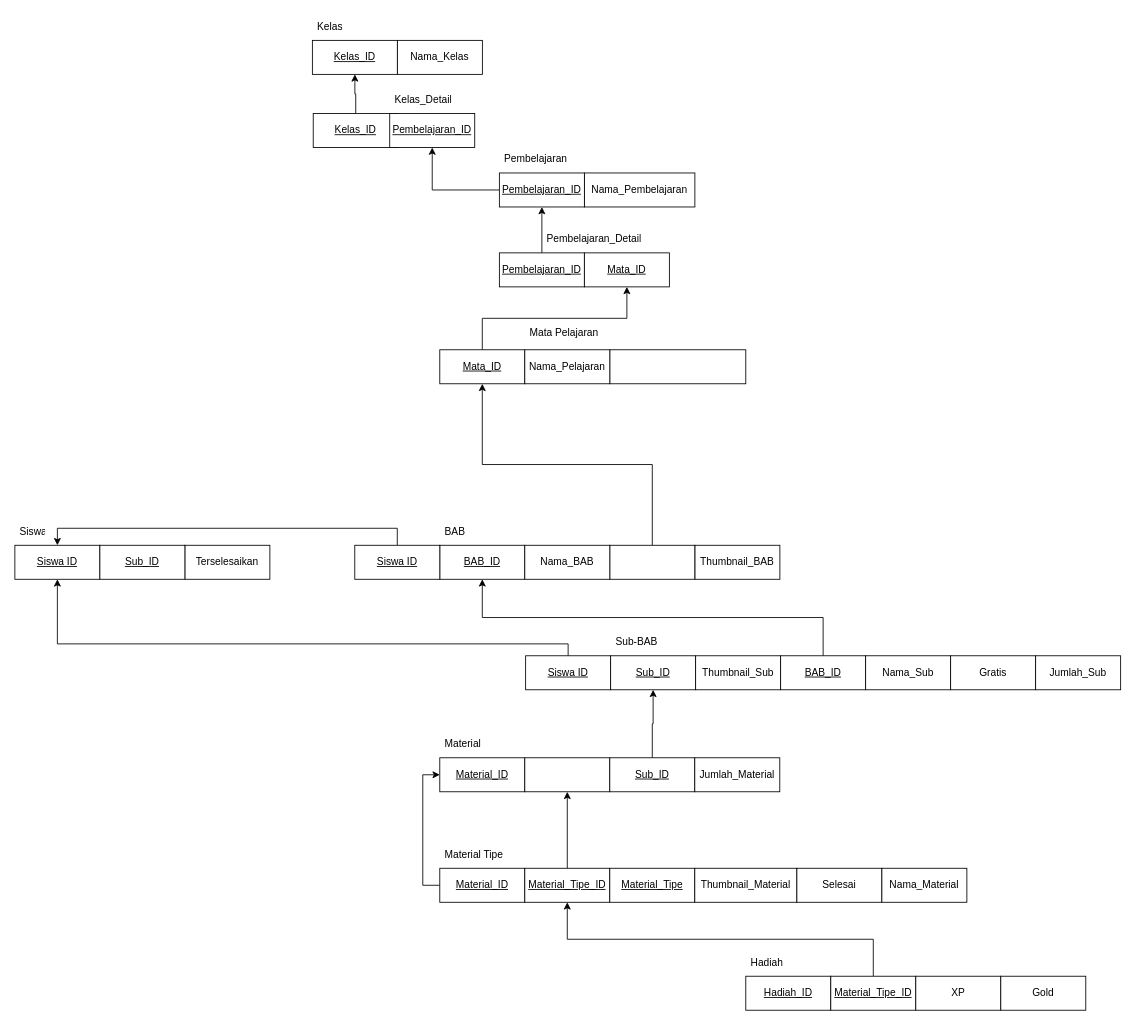
Image size: 1136x1025. Some labels were removed from this diagram. Here are the shapes that lost their labels. From the top down, the box of each, then its label:
(609, 349, 746, 384): Thumbnail_Pelajaran
(609, 544, 695, 579): Mata ID
(524, 757, 610, 792): Material_Tipe _ID
